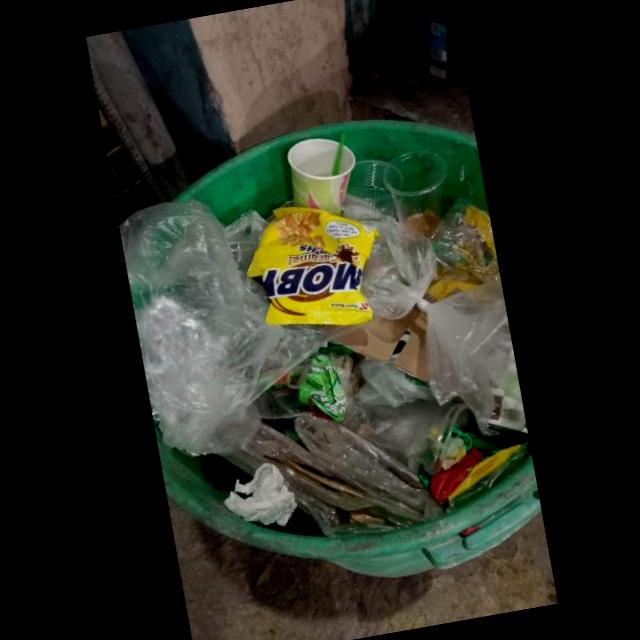bao_bi_thuc_pham: (246, 207, 380, 326), (447, 439, 531, 512), (297, 354, 345, 422)
carton: (324, 305, 429, 383)
giay: (286, 138, 355, 216), (222, 463, 297, 527)
hop_nhua: (382, 151, 447, 235), (342, 159, 403, 224)
tui_ni_long: (118, 199, 333, 459), (359, 221, 514, 435), (239, 415, 443, 532)
